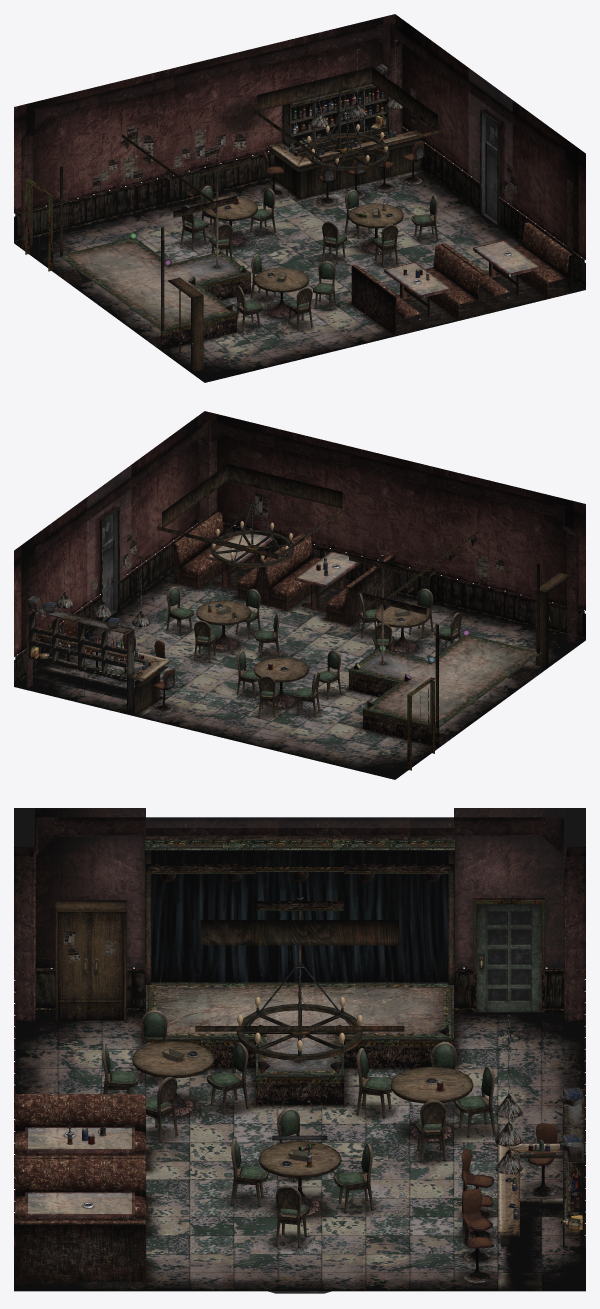
The picture shows the model from 3 angles, top to bottom: view 1: azimuth 30°, elevation 25°; view 2: azimuth 150°, elevation 25°; view 3: azimuth 270°, elevation 25°; orthographic projection. The views are drawn at different scales.
Parts seen in each view (by area): view 1: FrontSide_0 (×17); view 2: FrontSide_0 (×16); view 3: FrontSide_0 (×16).
Boxes of the visible parts, x1,y1,x2,y2 form: FrontSide_0 (×17): (14,14,585,382); FrontSide_0 (×16): (14,411,585,779); FrontSide_0 (×16): (14,808,585,1293).
Size of the model in its own units: 0.6224 by 0.2295 by 0.5284.
Materials: 40 (40 with a texture image).
